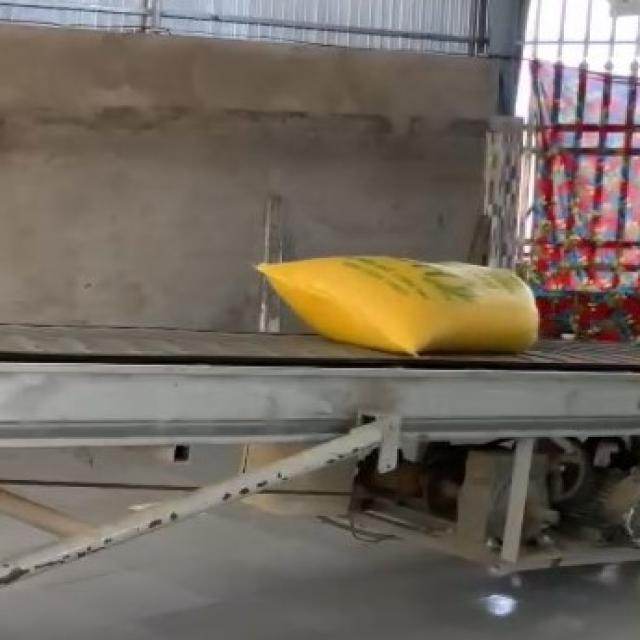gunny_bag: (258, 256, 540, 355)
